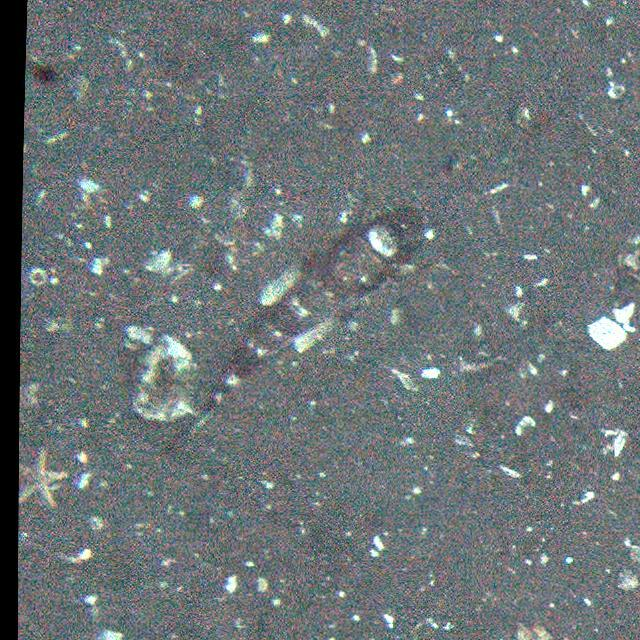roundfish: (168, 208, 426, 461)
